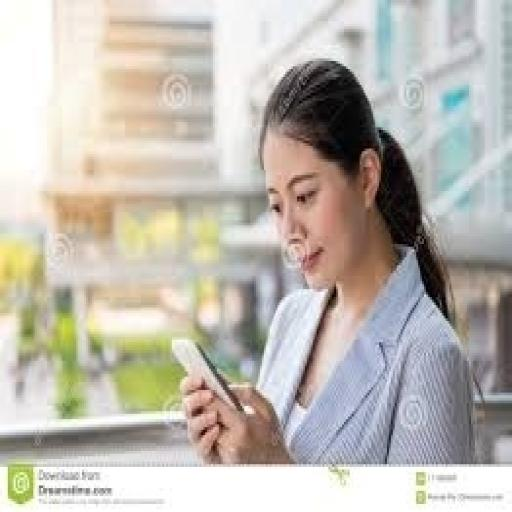texting: (176, 56, 479, 464)
